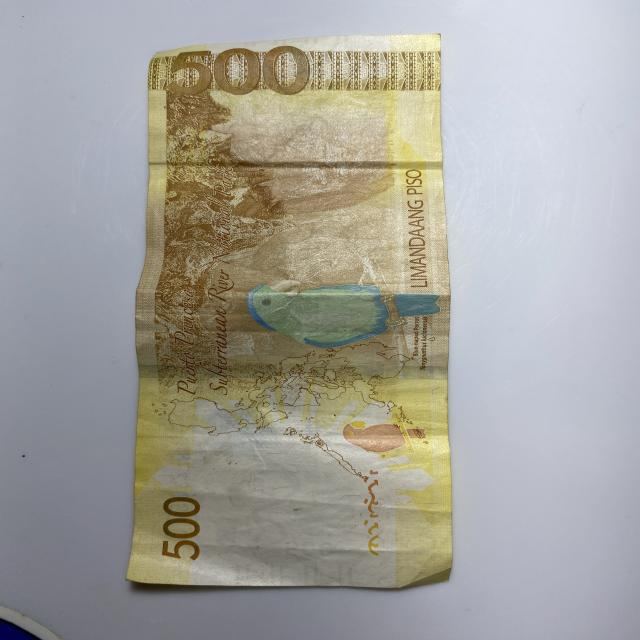500_big_parrot: (242, 280, 437, 346)
500_parrot_watermark: (343, 420, 427, 452)
value_watermark: (285, 541, 334, 558)
